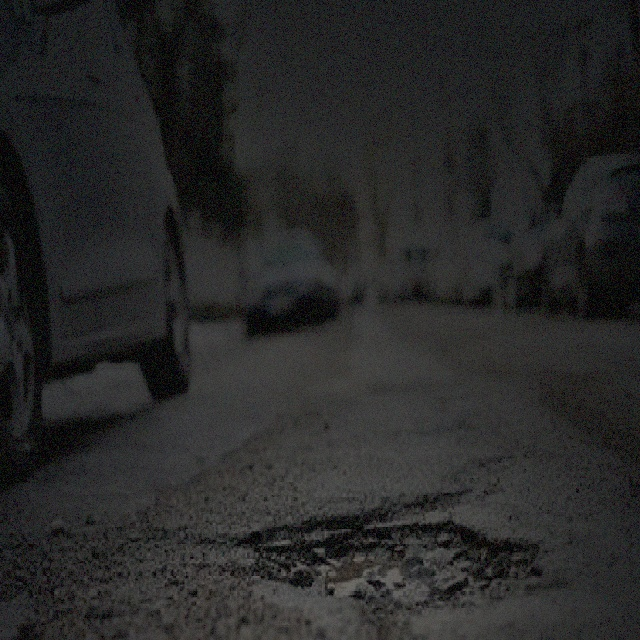pothole: (241, 482, 544, 615)
